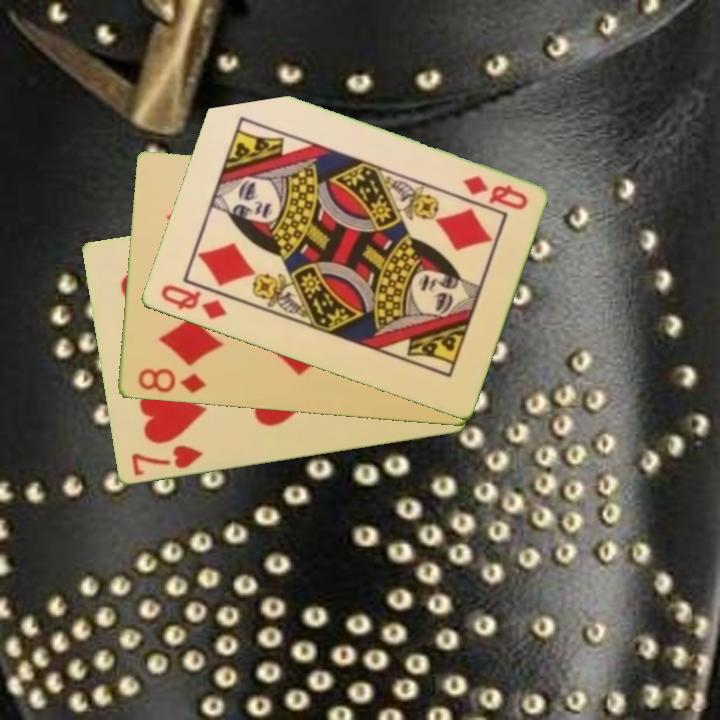7h: (127, 442, 206, 479)
8d: (134, 365, 208, 397)
Qd: (157, 281, 230, 323), (458, 172, 531, 213)
